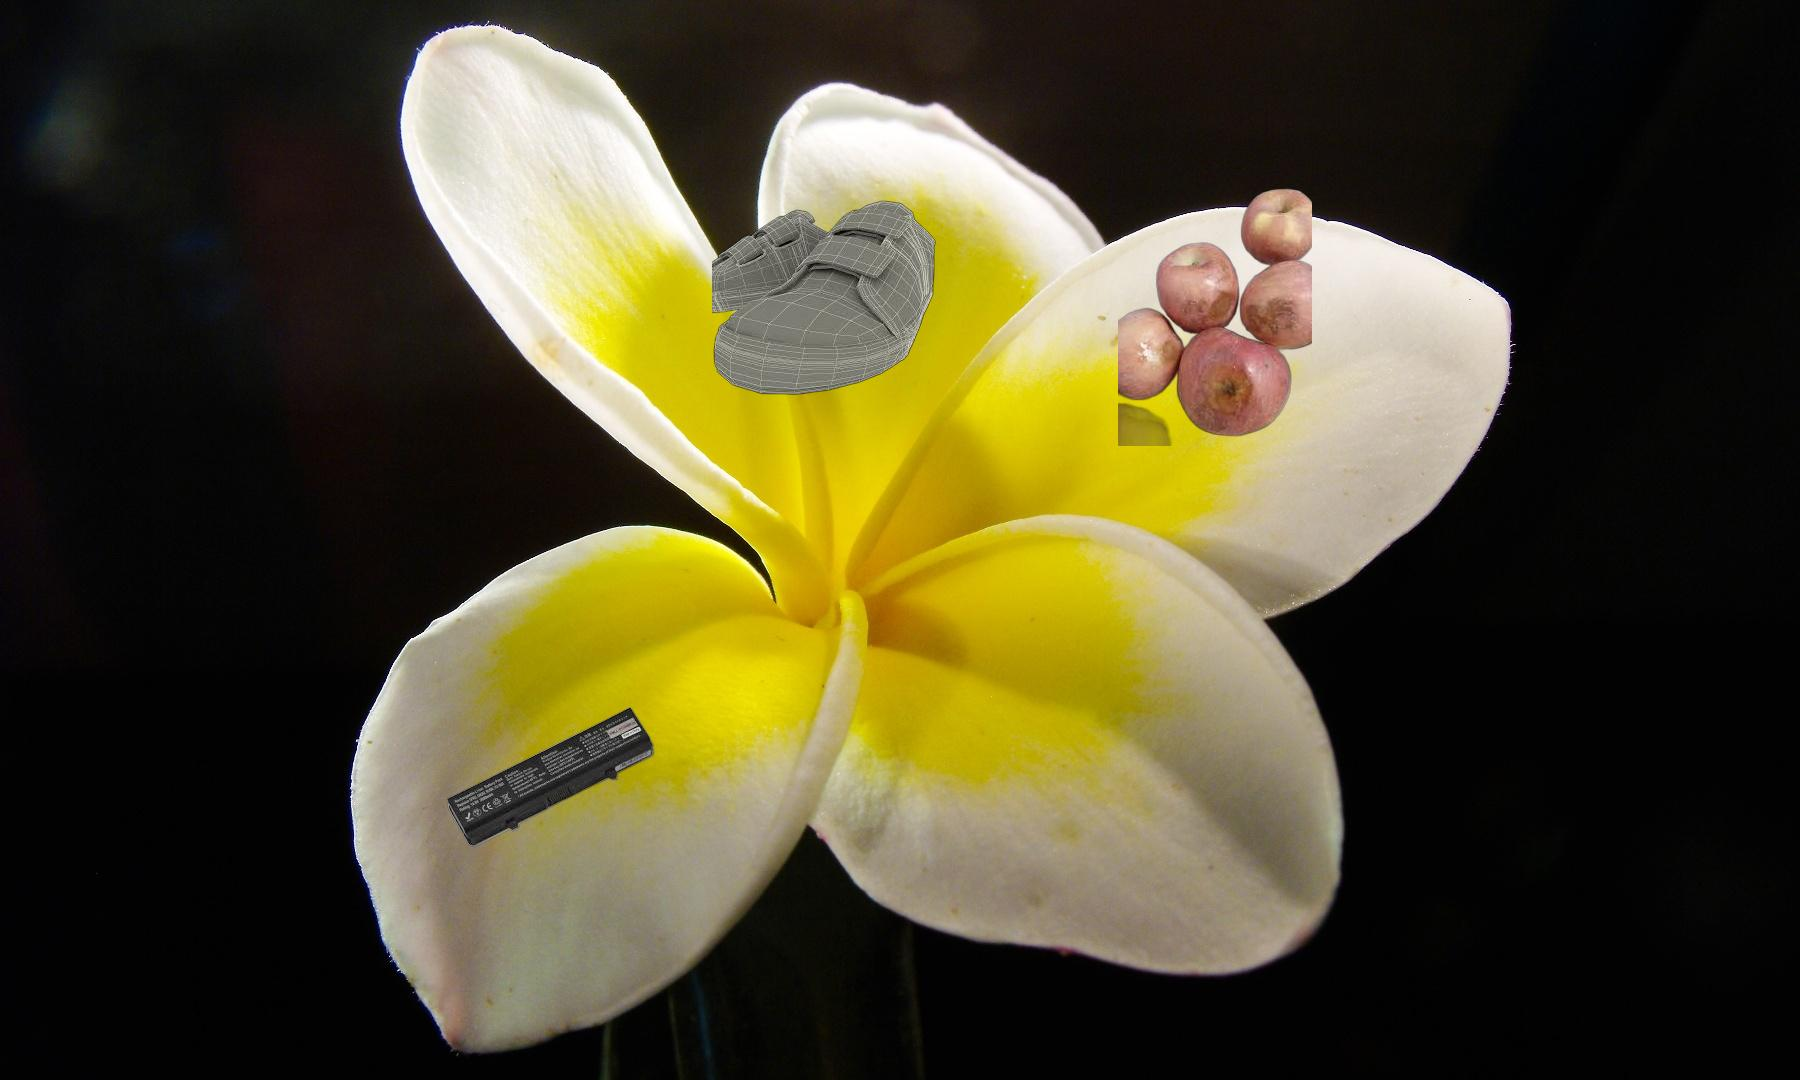battery: (444, 705, 657, 849)
biological: (1119, 186, 1311, 446)
shoes: (712, 198, 937, 399)
